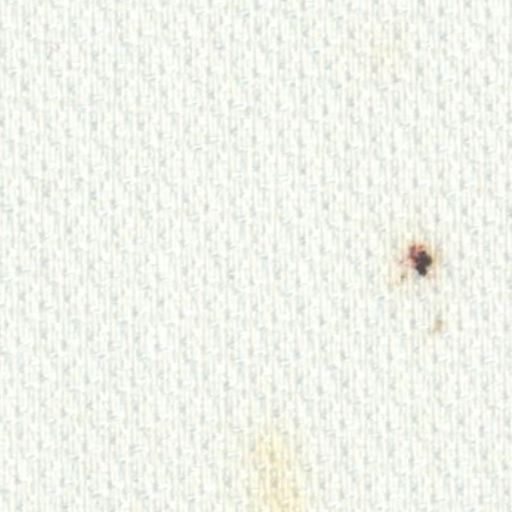WuZi: (372, 215, 472, 358), (225, 402, 320, 510)
